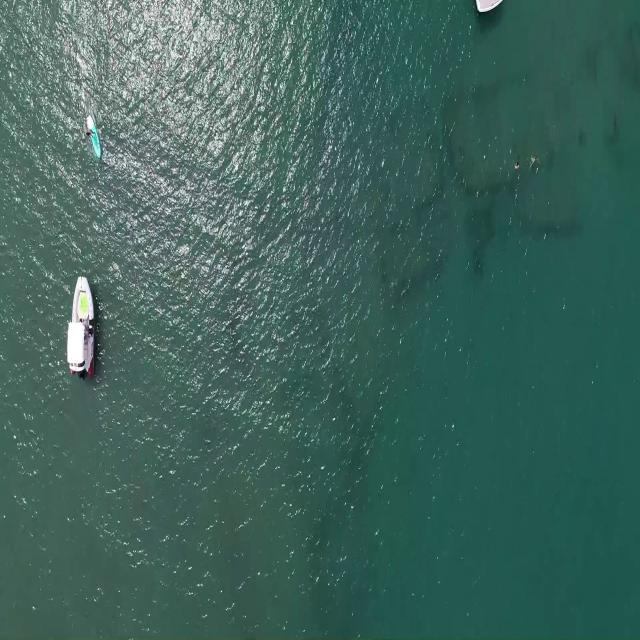boat: (65, 264, 97, 384)
person: (528, 154, 543, 167), (86, 126, 98, 140), (513, 160, 521, 170)
surfboard: (86, 112, 101, 162)
